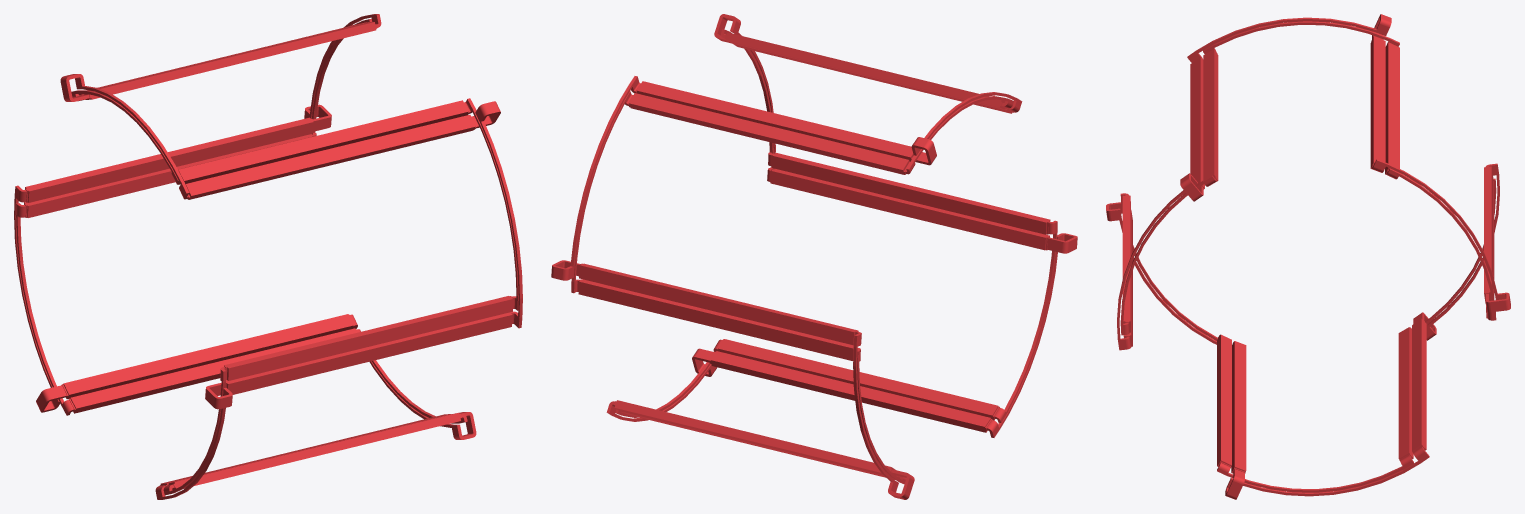
File: PhaseB2.glb
The picture shows the model from 3 angles, left to right: view 1: azimuth 30°, elevation 25°; view 2: azimuth 150°, elevation 25°; view 3: azimuth 270°, elevation 25°; orthographic projection. The views are drawn at different scales.
Visible parts, largest first — view 1: Phase B2; view 2: Phase B2; view 3: Phase B2.
Part boxes in pixels (x1,y1,x2,y2): Phase B2: (14,14,522,499); Phase B2: (551,14,1077,499); Phase B2: (1106,14,1510,499).
Bounding box in the file's own units: 0.5268 × 0.5922 × 0.6257.
